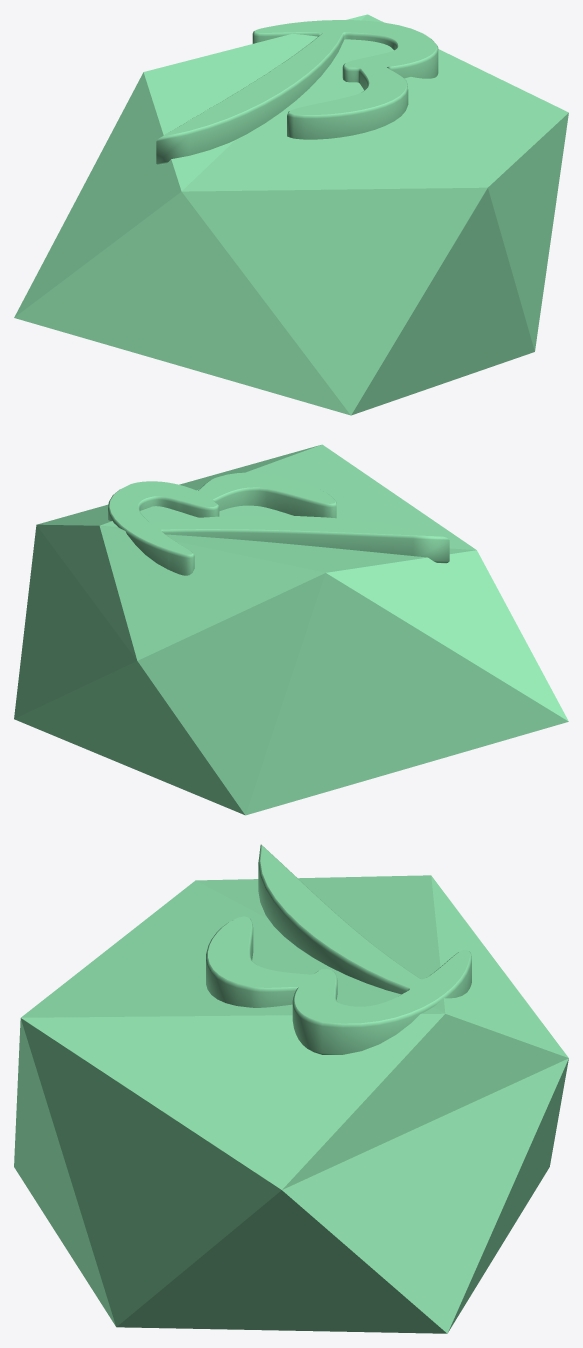
File: ucuncu.fbx
The picture shows the model from 3 angles, top to bottom: view 1: azimuth 30°, elevation 25°; view 2: azimuth 150°, elevation 25°; view 3: azimuth 270°, elevation 25°; orthographic projection. The views are drawn at different scales.
Visible parts, largest first — view 1: Icosphere.002, Curve.002; view 2: Icosphere.002, Curve.002; view 3: Icosphere.002, Curve.002.
Part boxes in pixels (box(x1,y1,x2,y2)): Icosphere.002: box(14, 14, 568, 415); Curve.002: box(156, 20, 438, 165); Icosphere.002: box(14, 444, 568, 815); Curve.002: box(108, 472, 449, 575); Icosphere.002: box(14, 875, 568, 1333); Curve.002: box(206, 844, 471, 1054).
Bounding box in the file's own units: 363 × 160 × 261.
